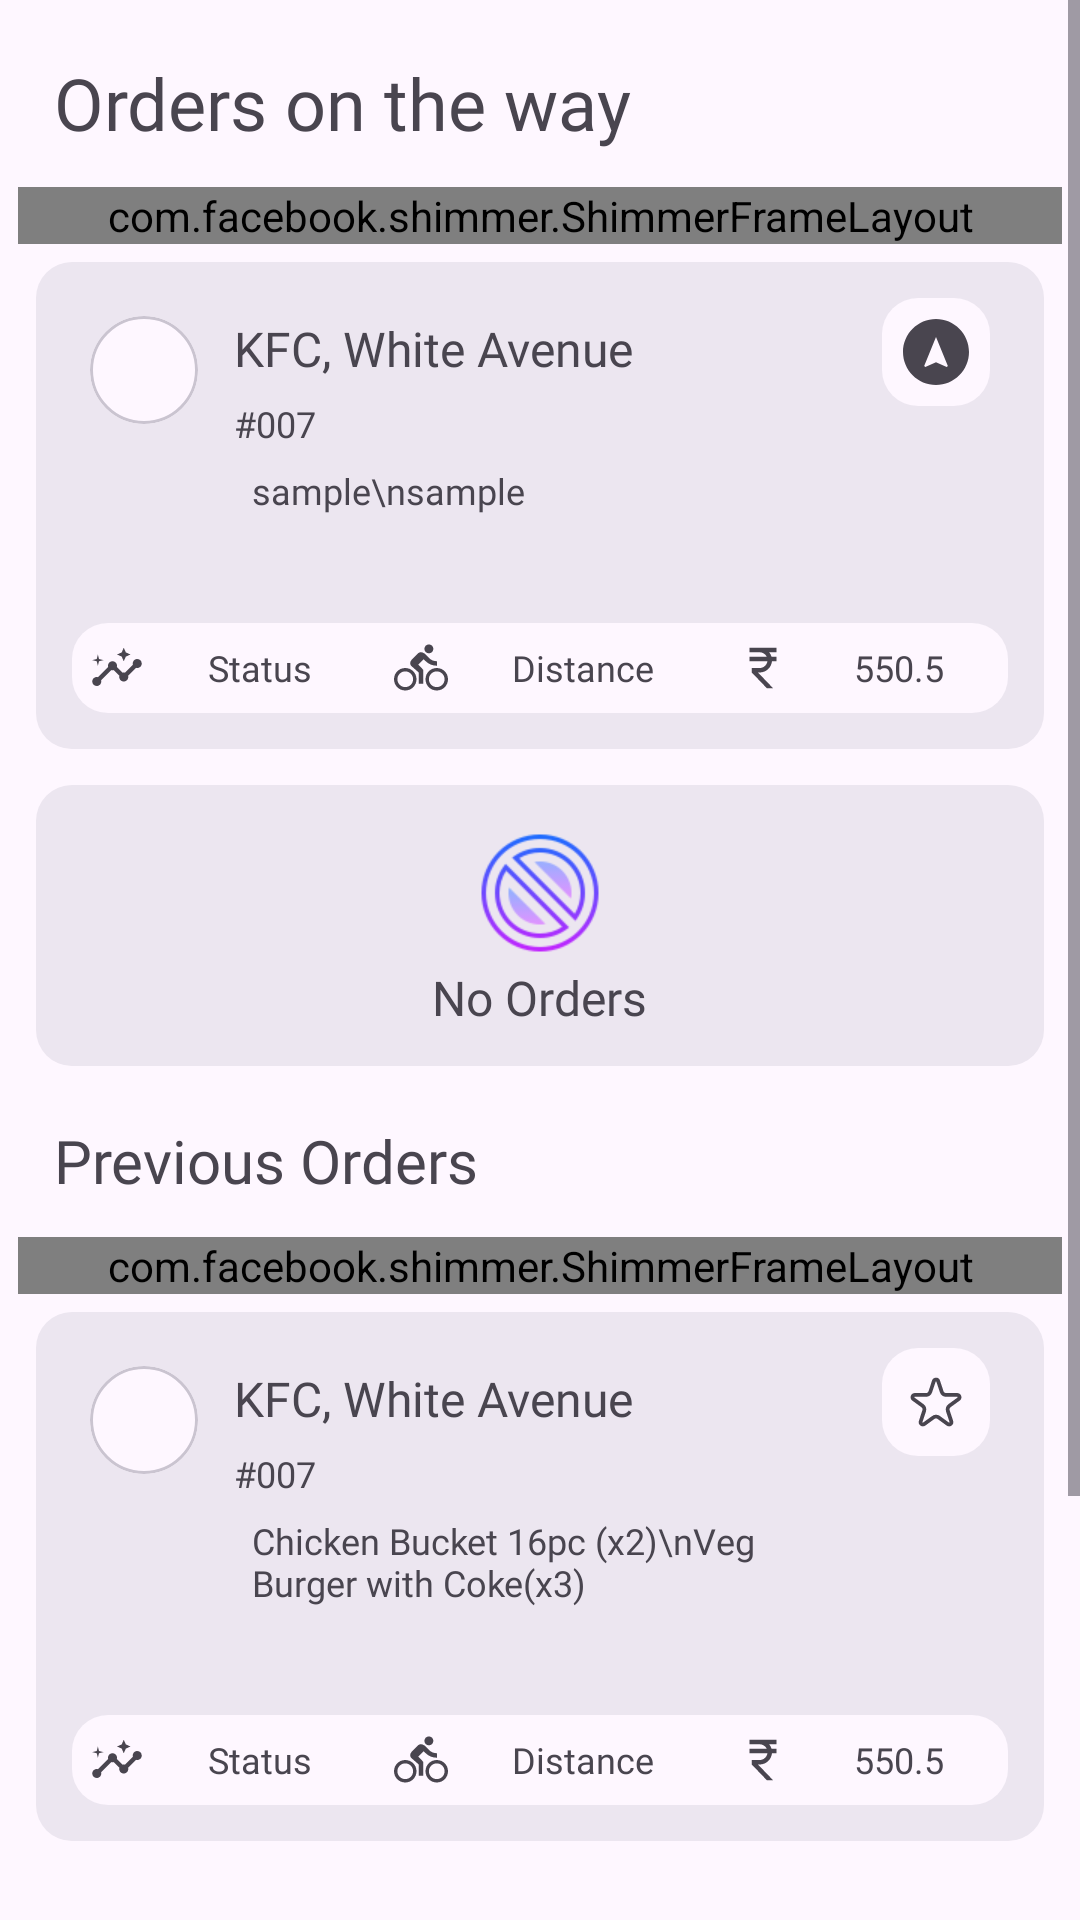

Icons on this 1080px×1920px Android screen, each with its box as Rect(x1, y1, x2, y2):
assistant navigation: Rect(903, 319, 969, 385)
star: Rect(882, 1348, 990, 1456)
unavailable: Rect(481, 834, 599, 952)
